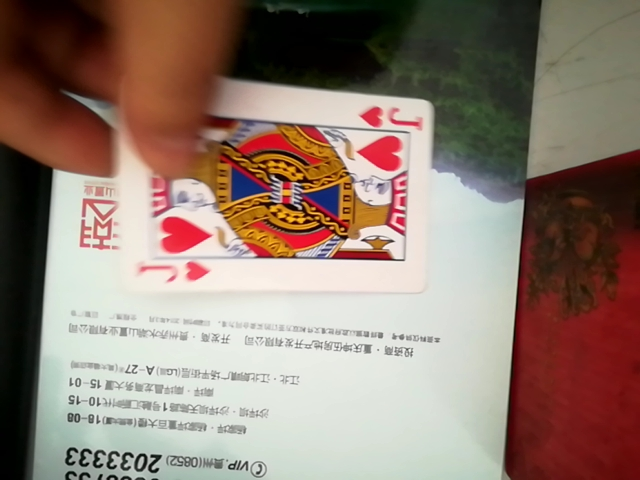hx j: (130, 82, 437, 297)
